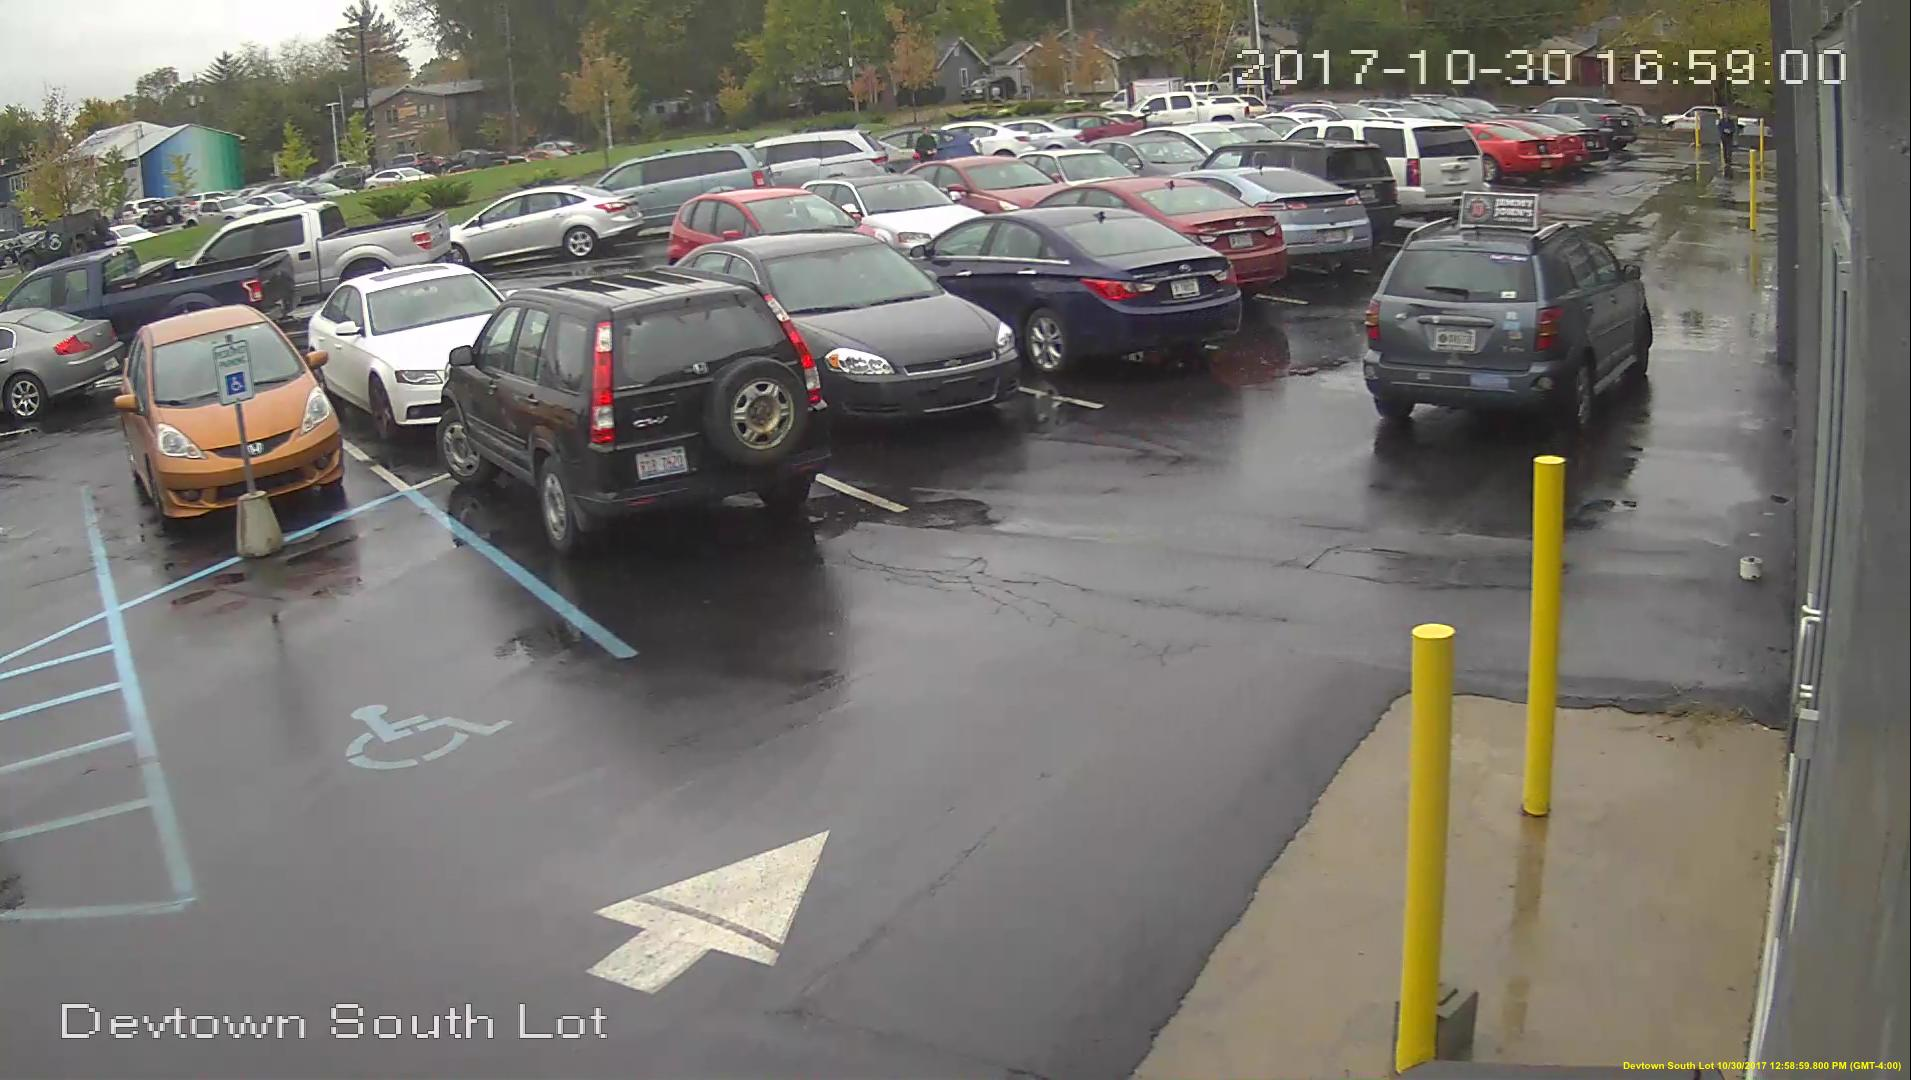jimmy_johns: (1456, 192, 1540, 232)
